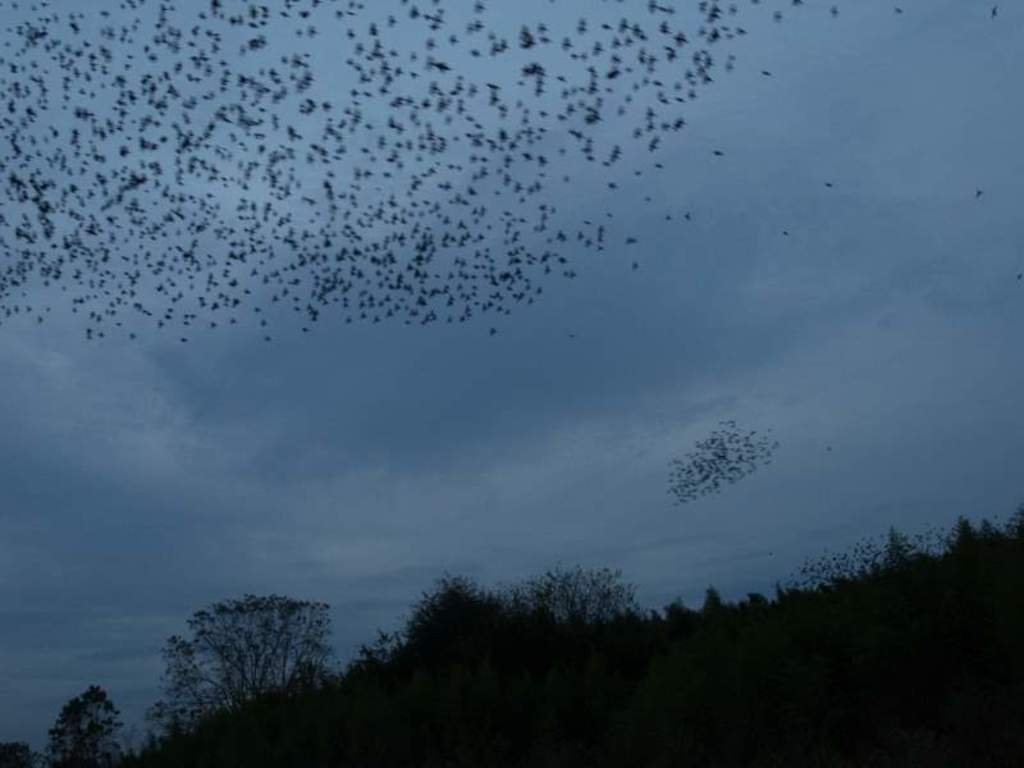Tree: (0, 500, 1022, 766)
